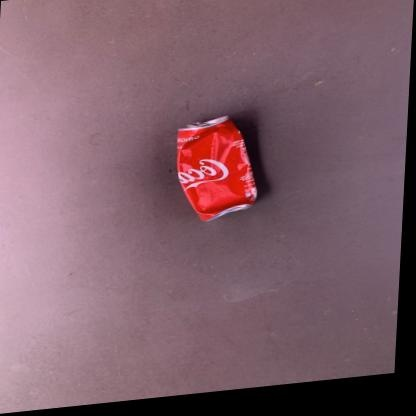trash: (177, 116, 256, 220)
